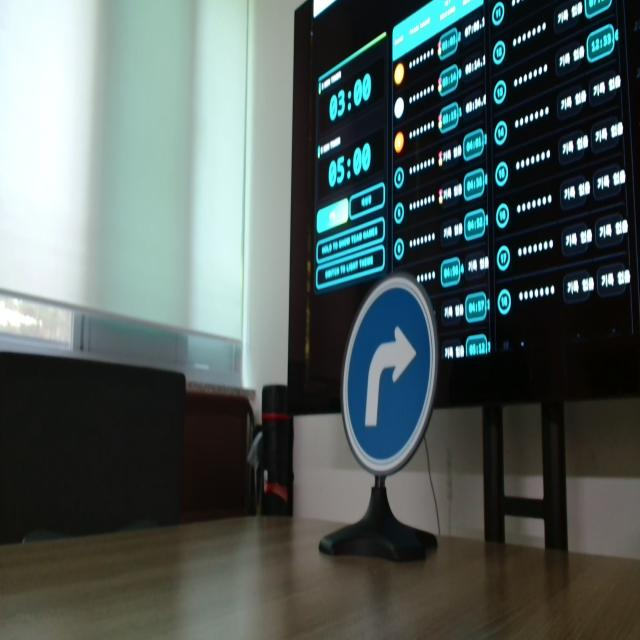right_dierection: (339, 263, 439, 481)
